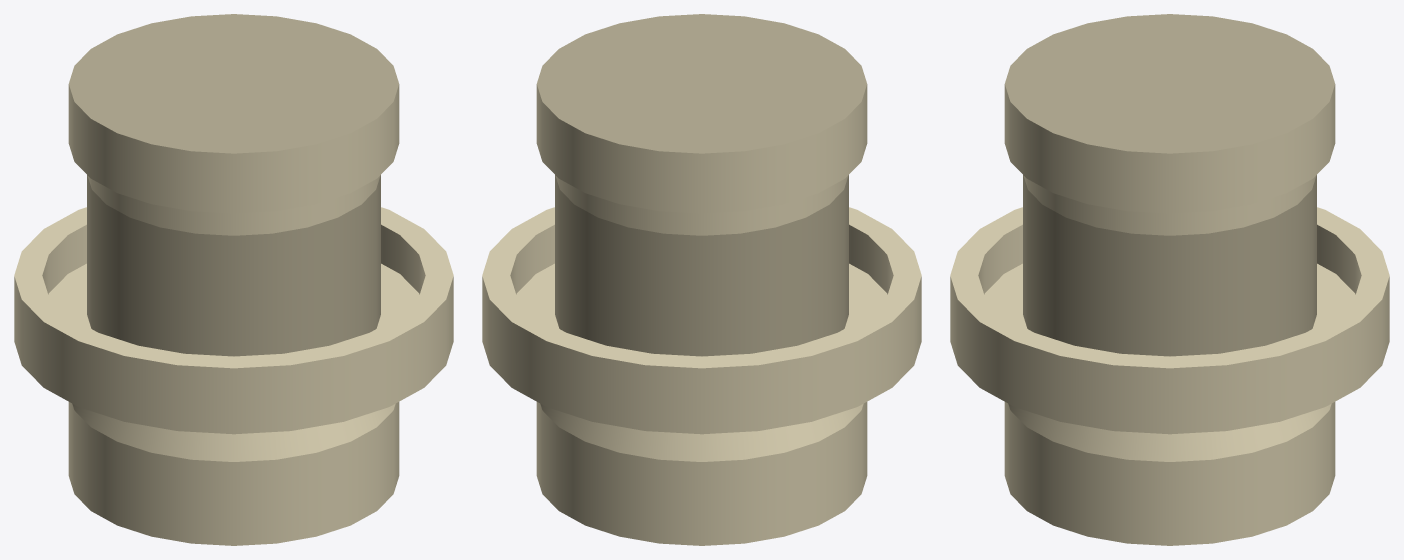
Rendered from towerBalcony.fbx.
3 renders of one model, left to right at view 1: azimuth 30°, elevation 25°; view 2: azimuth 150°, elevation 25°; view 3: azimuth 270°, elevation 25°, orthographic.
Parts seen in each view (by area): view 1: towerBalcony; view 2: towerBalcony; view 3: towerBalcony.
Boxes of the visible parts, x1,y1,x2,y2 form: towerBalcony: (14,14,453,545); towerBalcony: (482,14,921,545); towerBalcony: (950,14,1389,545).
Bounding box in the file's own units: 13.3 × 13.1 × 13.3.
